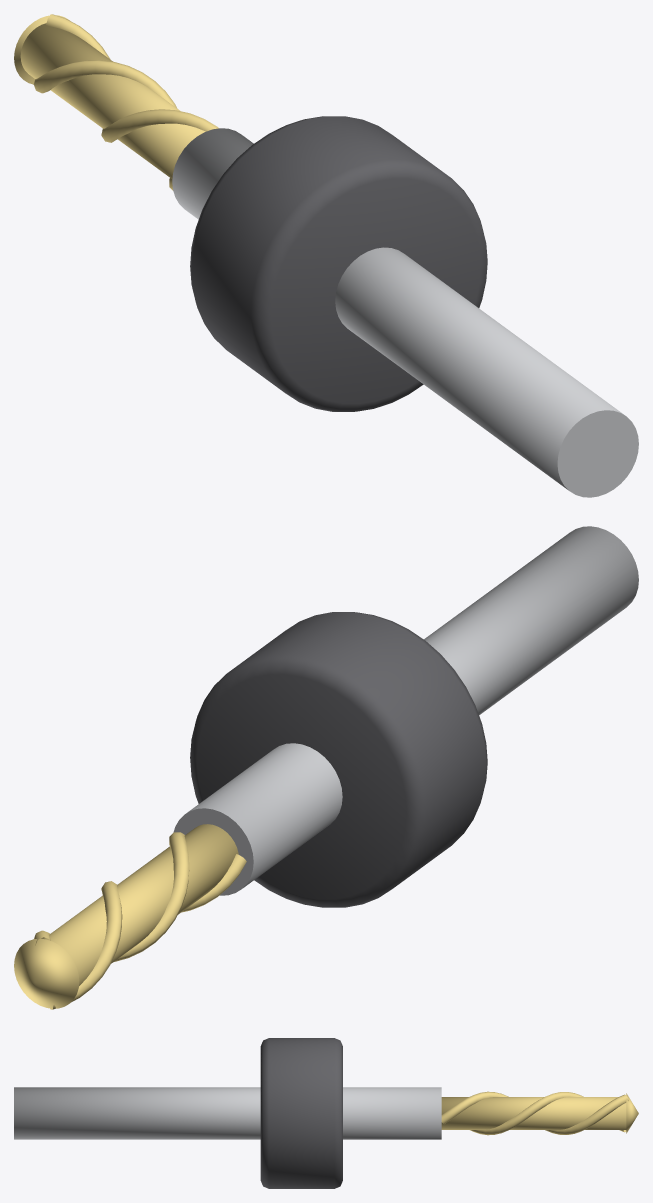
The model's file is drill18_2p6.glb.
3 renders of one model, top to bottom at view 1: azimuth 30°, elevation 25°; view 2: azimuth 150°, elevation 25°; view 3: azimuth 270°, elevation 25°, orthographic. The views are drawn at different scales.
Parts seen in each view (by area): view 1: Cylinder.002, Cylinder.001, Cylinder, flute, flute.001; view 2: Cylinder.002, Cylinder.001, Cylinder, Cone, flute.001, flute; view 3: Cylinder.001, Cylinder.002, Cylinder, flute, flute.001, Cone.
Part boxes in pixels (box(x1,y1,x2,y2)): Cylinder.002: box(190, 116, 487, 411); Cylinder.001: box(172, 128, 638, 497); Cylinder: box(20, 23, 205, 178); flute: box(46, 14, 218, 142); flute.001: box(33, 60, 177, 190); Cylinder.002: box(190, 612, 487, 907); Cylinder.001: box(173, 526, 638, 895); Cylinder: box(44, 824, 238, 985); Cone: box(14, 938, 79, 1008); flute.001: box(50, 854, 246, 1009); flute: box(34, 832, 189, 962); Cylinder.001: box(14, 1087, 441, 1139); Cylinder.002: box(260, 1038, 342, 1188); Cylinder: box(441, 1097, 626, 1129); flute: box(441, 1091, 628, 1134); flute.001: box(470, 1092, 626, 1135); Cone: box(626, 1093, 638, 1133).
Bounding box in the file's own units: 0.00917 × 0.00917 × 0.038.
